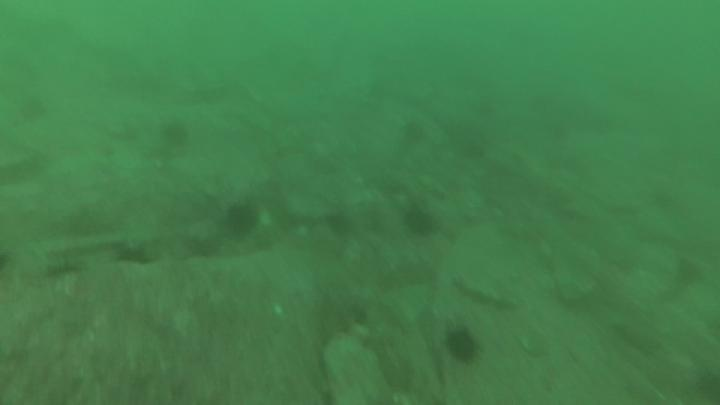echinus: (404, 208, 438, 240), (448, 331, 479, 365), (229, 206, 258, 233), (166, 123, 186, 147)
